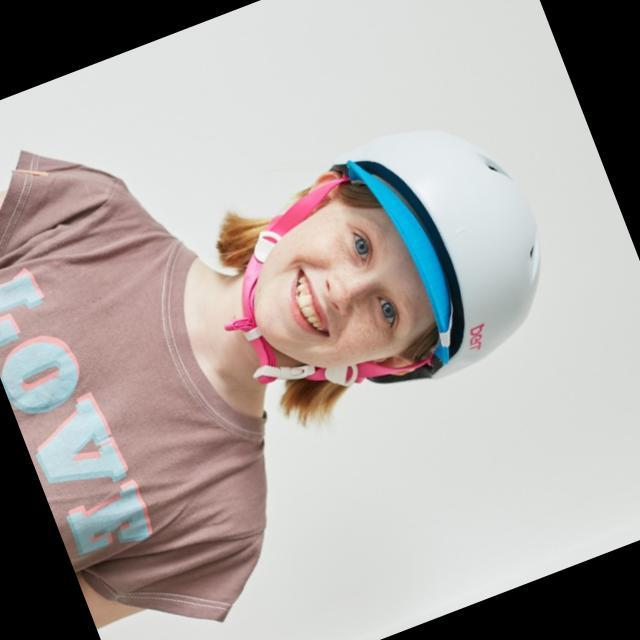WITH_HELMET: (343, 67, 585, 412)
